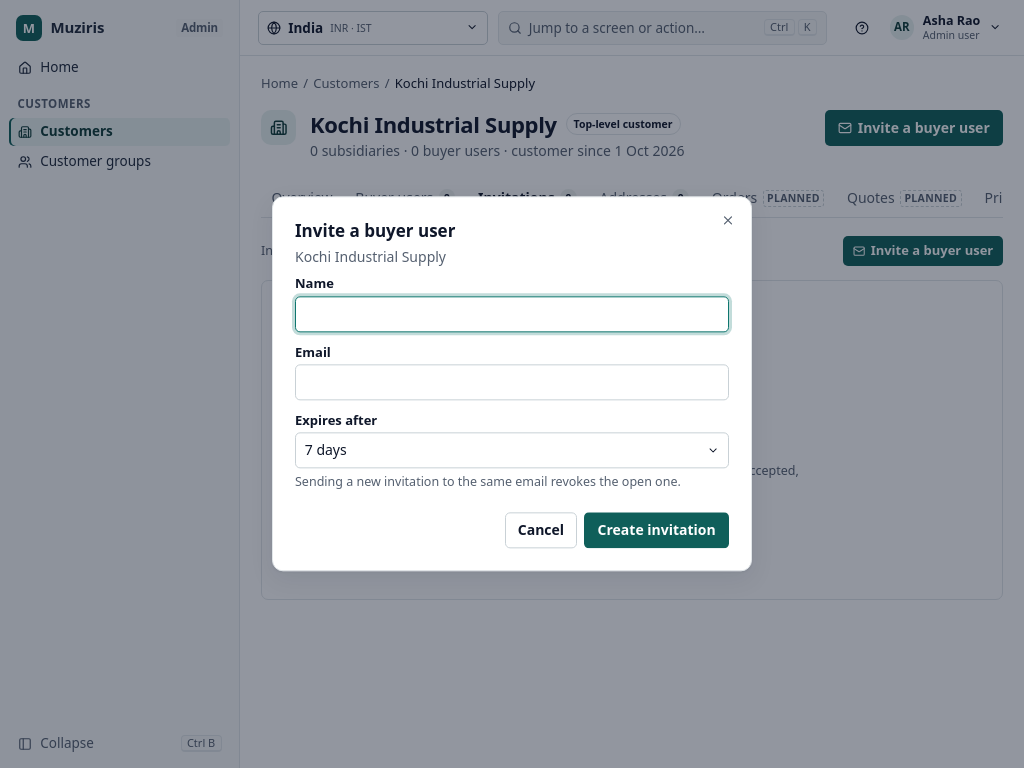
it: invitations › shows the invitation token once, because emails are not built yet
In the field labelled "Name": (512, 314) [295,296,729,332], type "Neha Shah"
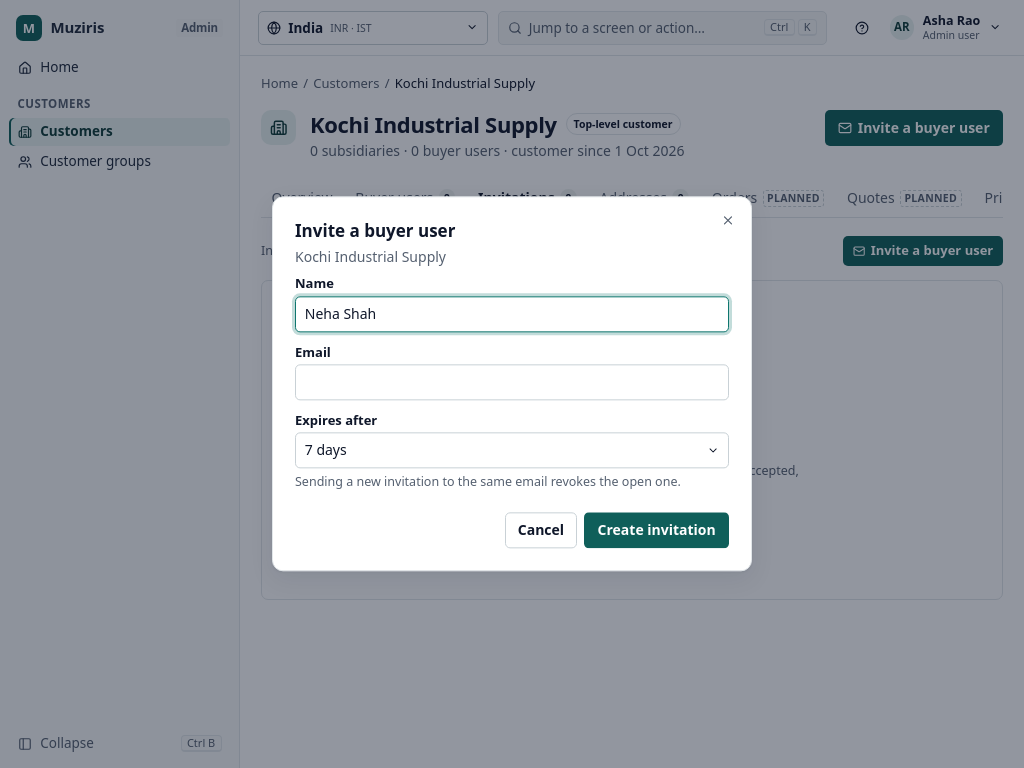
In the field labelled "Email": (512, 382) [295,364,729,400], type "neha@example.in"
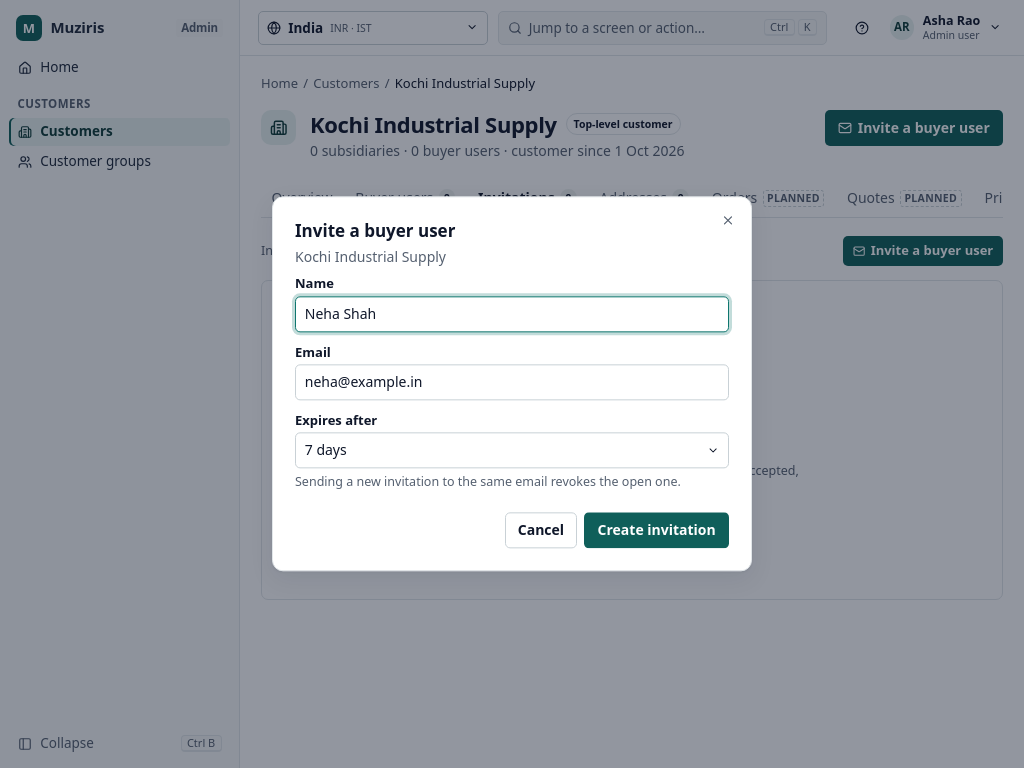
Click the button "Create invitation": (657, 531) [584,513,729,549]
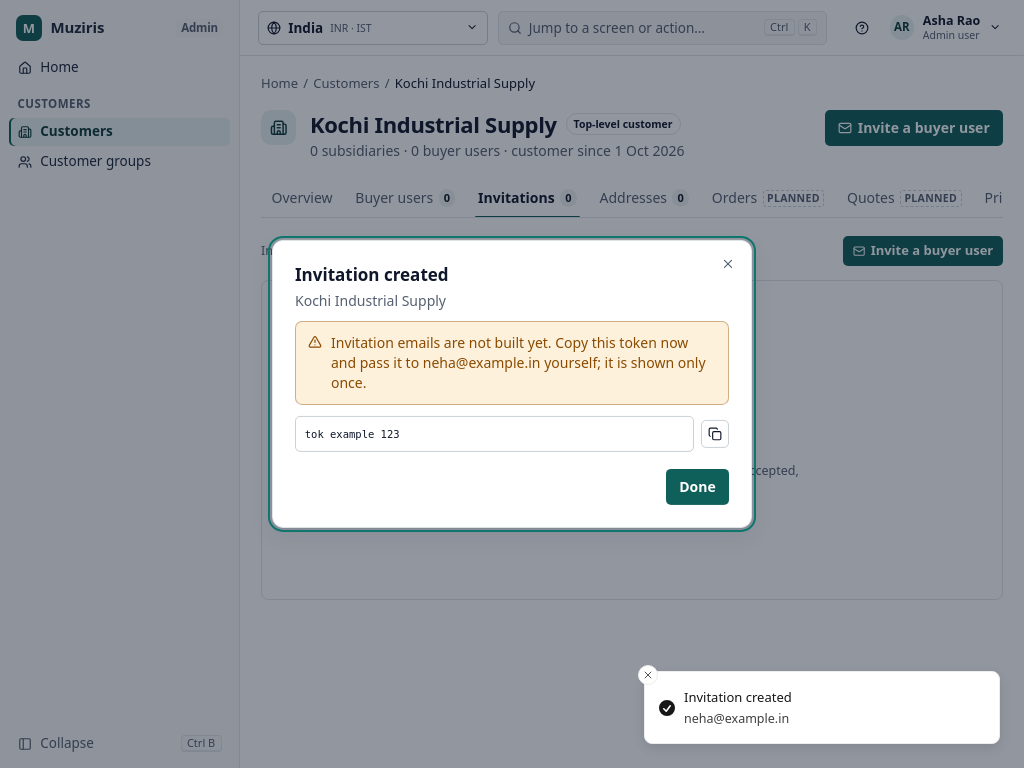
Expected: the field named "Invitation token" holds "tok_example_123", [295,416,694,452]
